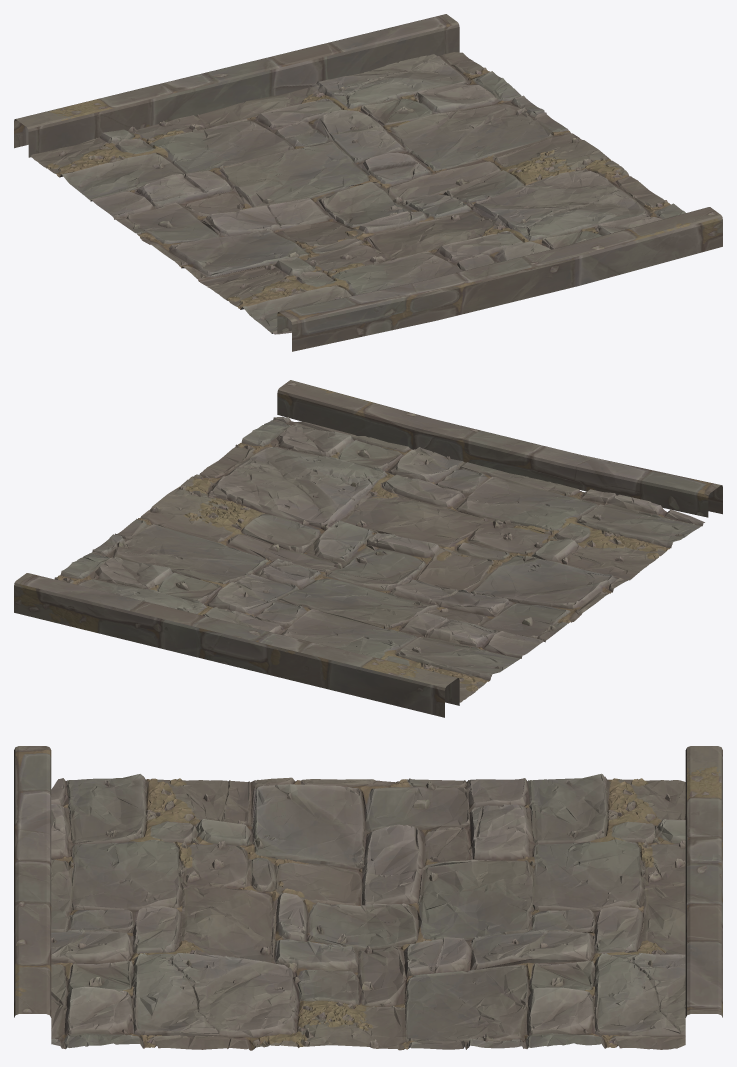
The model's file is Suelo.fbx.
3 renders of one model, top to bottom at view 1: azimuth 30°, elevation 25°; view 2: azimuth 150°, elevation 25°; view 3: azimuth 270°, elevation 25°, orthographic. The views are drawn at different scales.
Parts seen in each view (by area): view 1: Plane.001; view 2: Plane.001; view 3: Plane.001.
Part boxes in pixels (x1=…): Plane.001: x1=14, y1=14, x2=722, y2=351; Plane.001: x1=14, y1=380, x2=722, y2=717; Plane.001: x1=14, y1=746, x2=722, y2=1050.
Size of the model in its own units: 200 by 18.56 by 224.
1 material, 1 textured.
